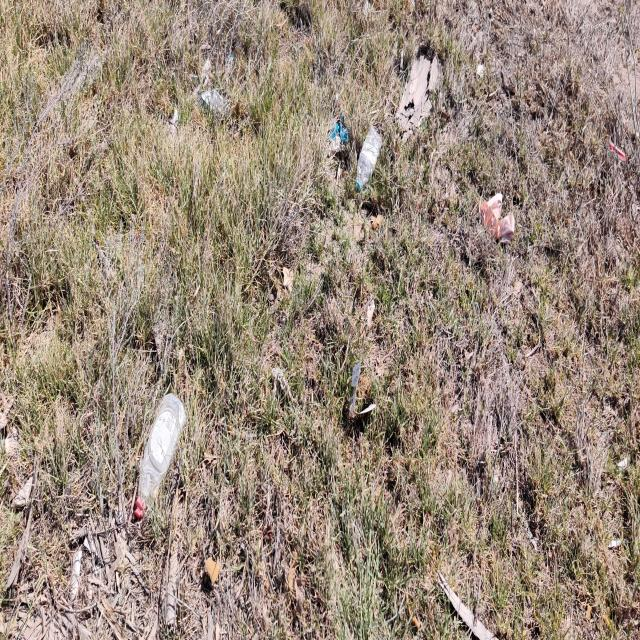litter: (129, 392, 186, 522), (478, 186, 518, 252), (354, 123, 384, 191), (325, 107, 350, 147)
